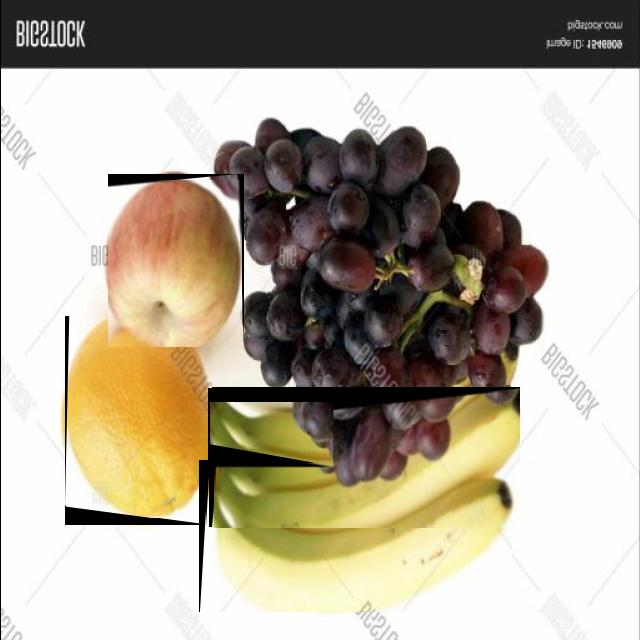Apple: (108, 180, 240, 346)
Banana: (205, 467, 510, 612), (213, 391, 519, 527), (209, 402, 332, 463)
Orange: (65, 317, 211, 517)
